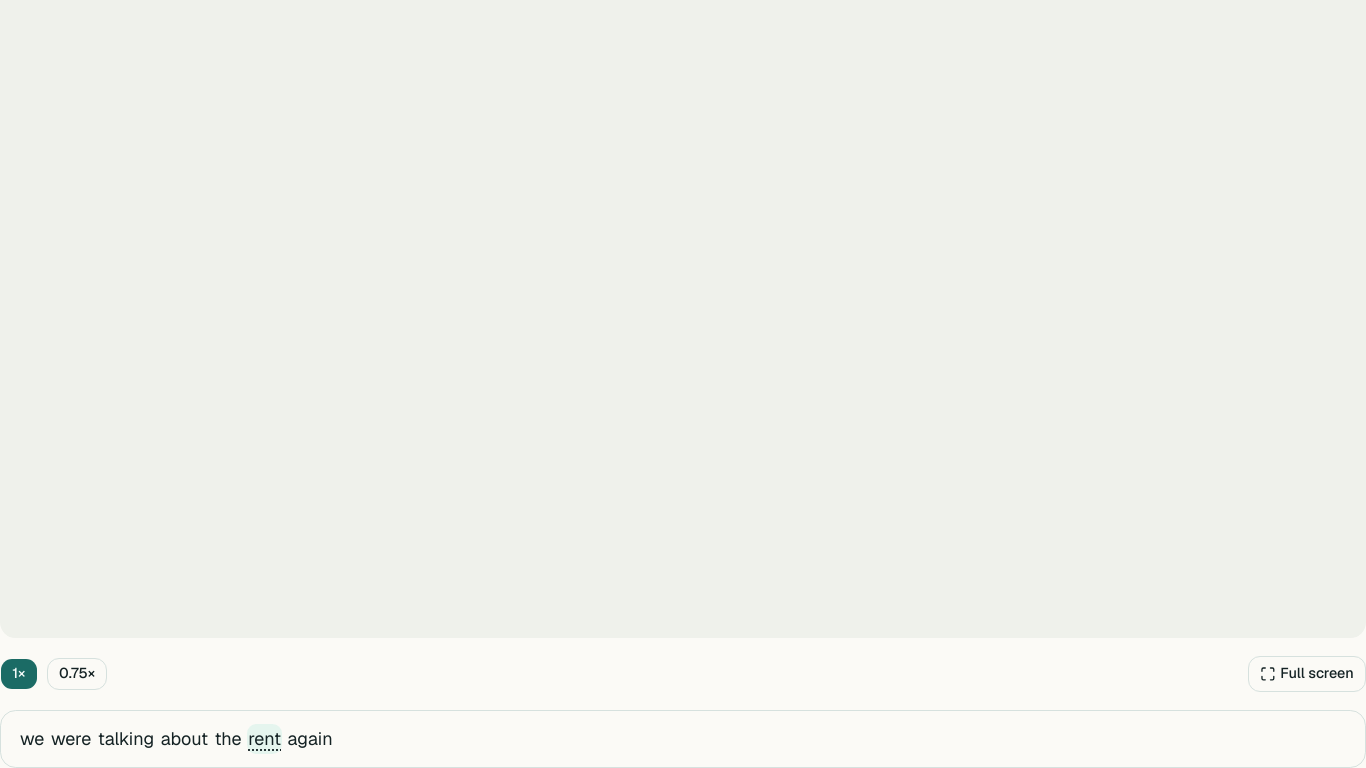
Test: the word sheet › says already saved without saying anything went wrong (#178)
(page scrolled)
Click the button "rent".
click(265, 739)  # box [247, 724, 282, 754]
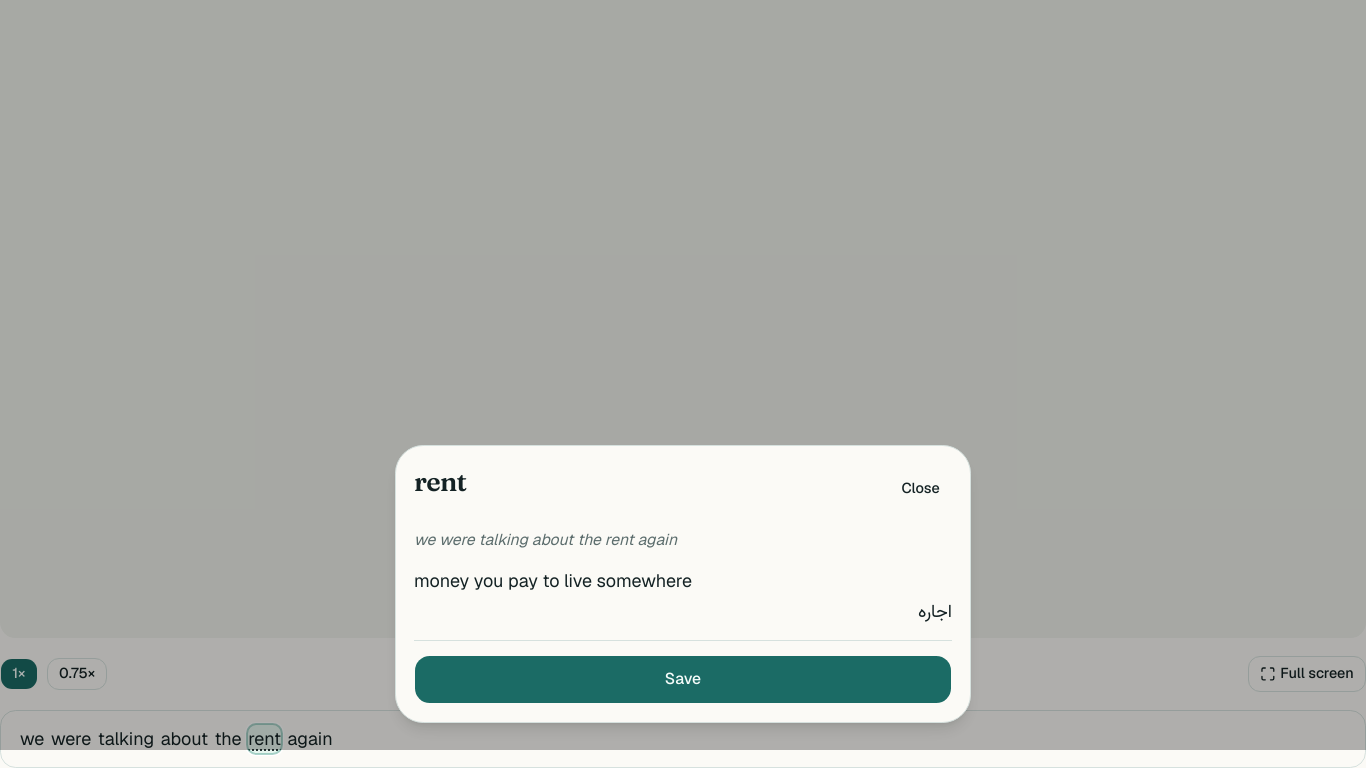
Now the dialog with test id "word-sheet" is shown, box [395, 445, 971, 723]
Click the button with test id "word-sheet-save".
click(683, 679)  # box [414, 654, 952, 704]
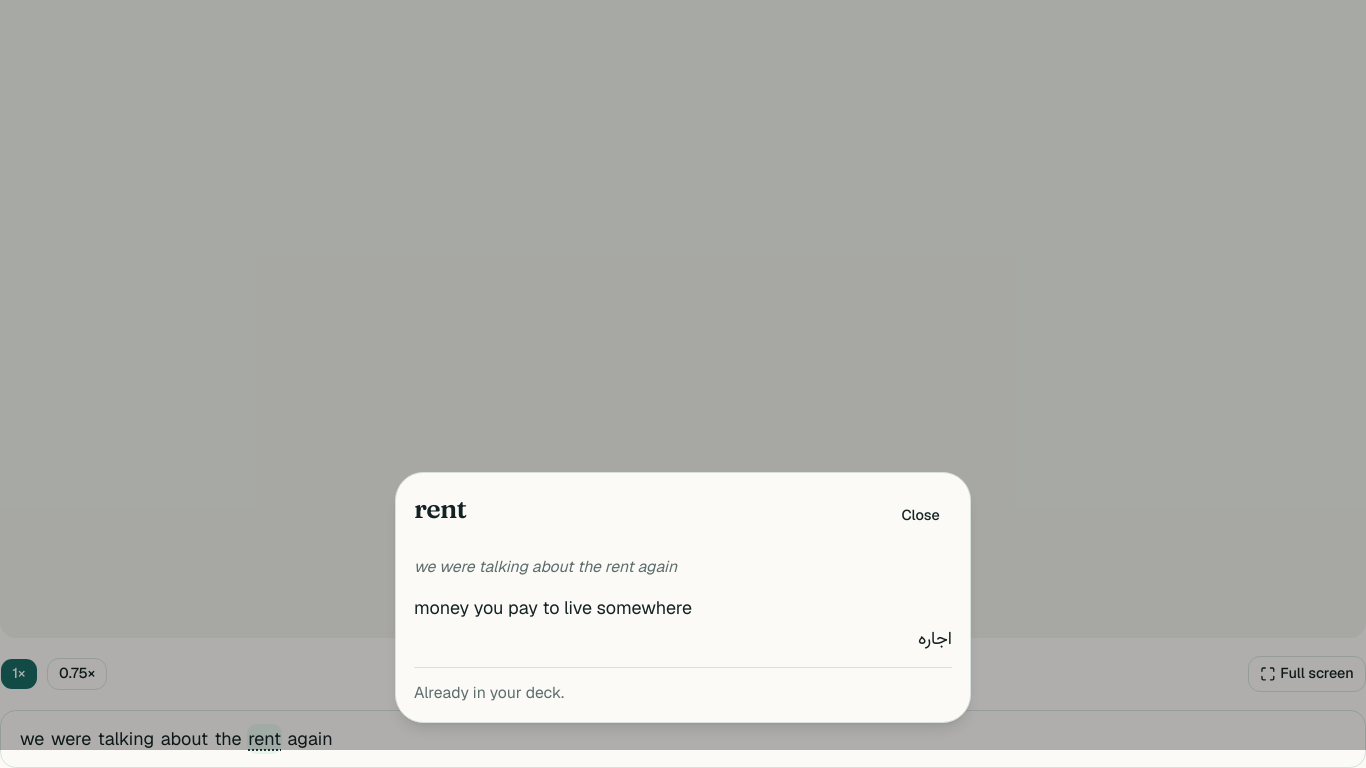
Now the text with test id "save-word-result" reads "Already in your deck.", box [414, 682, 564, 702]
